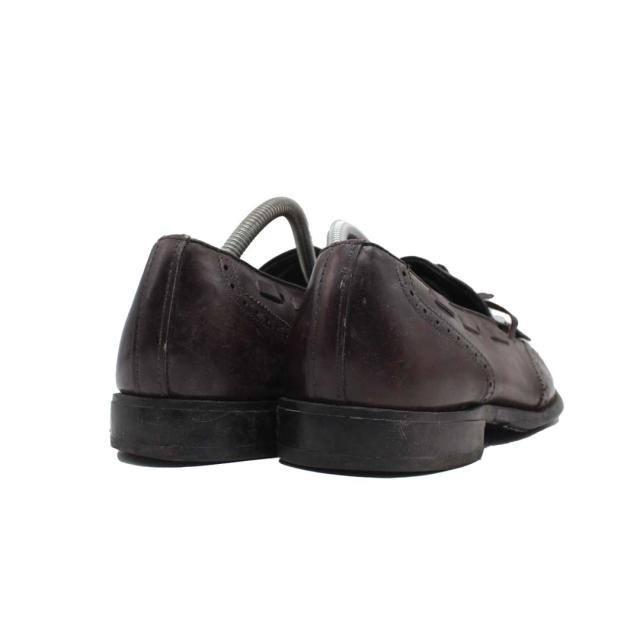heel: (297, 238, 490, 408), (111, 231, 298, 397)
midsole: (279, 394, 561, 475), (107, 391, 271, 460)
